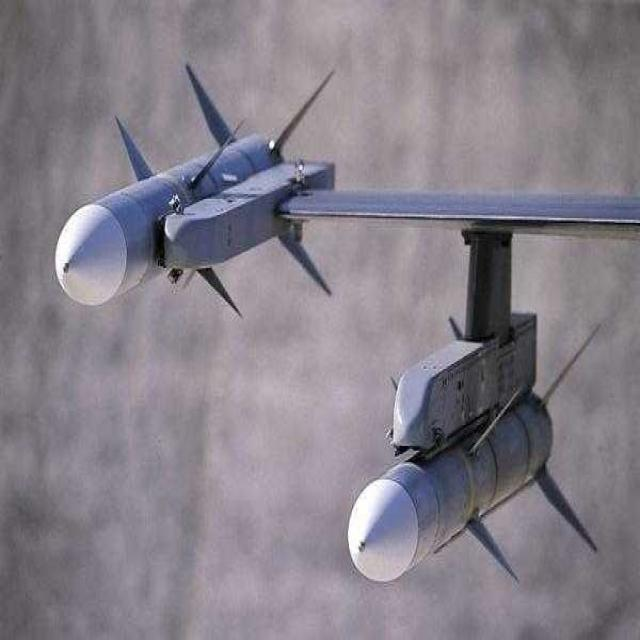missile: (55, 64, 337, 308), (348, 334, 600, 580)
